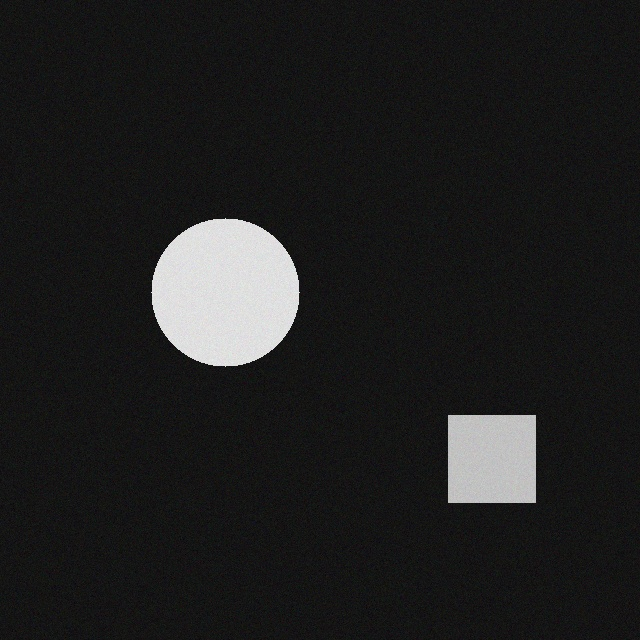circle: (157, 228, 305, 376)
square: (454, 425, 541, 512)
